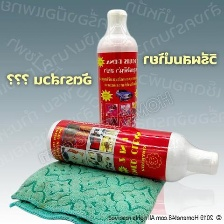cleaning_solution: (43, 118, 222, 187), (94, 7, 141, 157)
